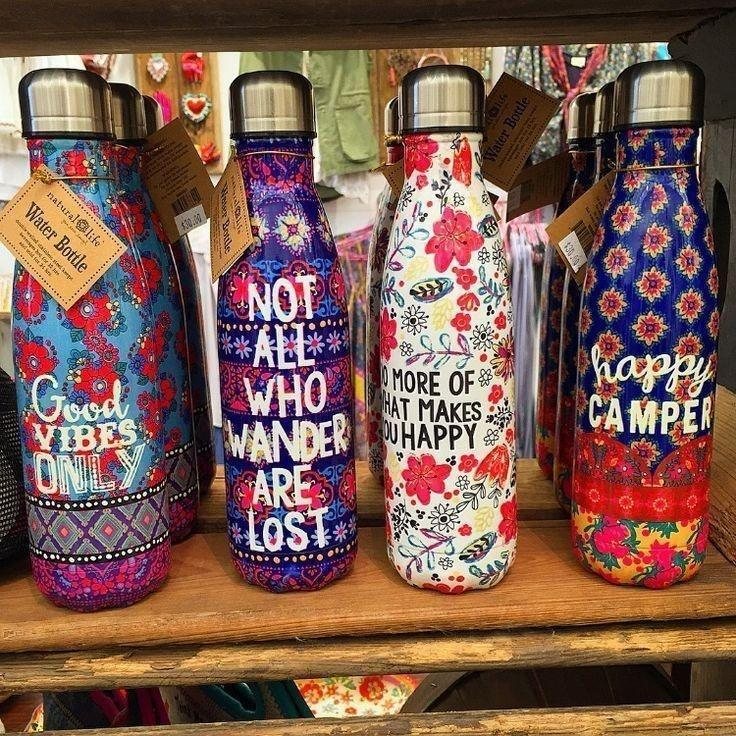gym bottle: (1, 66, 186, 617), (564, 54, 728, 595), (214, 67, 365, 600), (374, 66, 520, 600)
